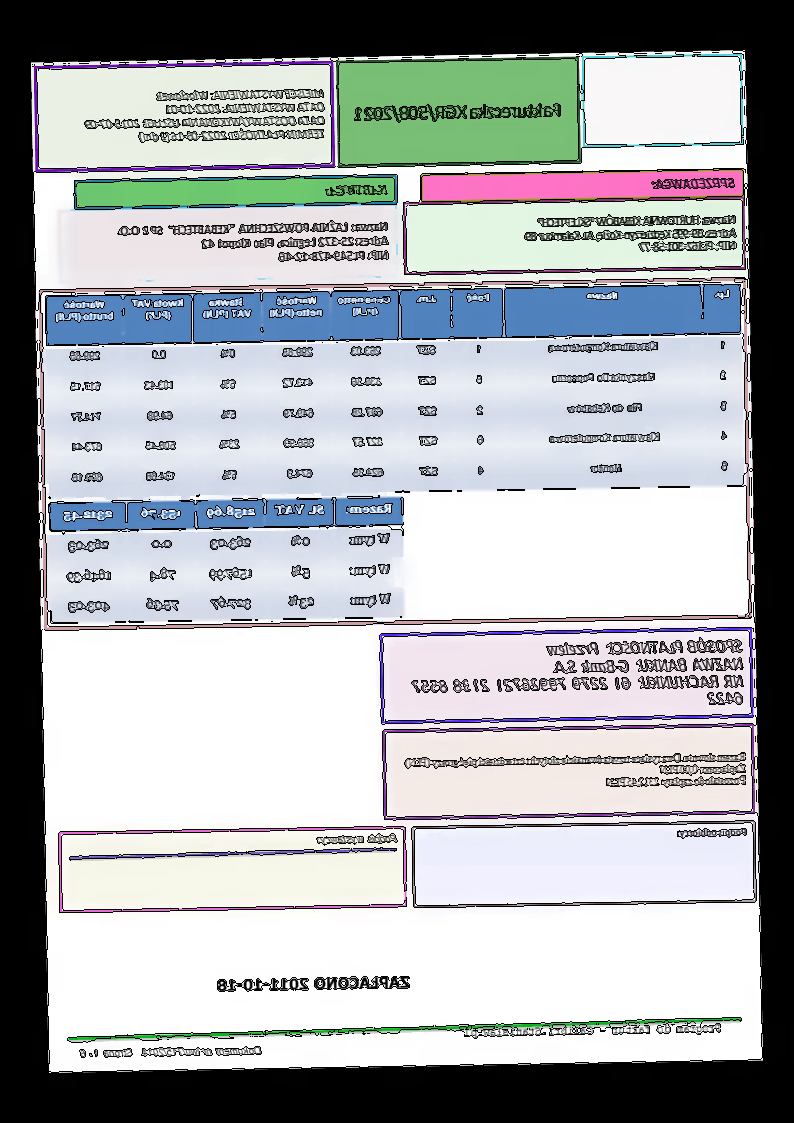Table: (46, 281, 747, 499), (50, 493, 408, 626)
TextBox: (406, 634, 747, 718), (399, 748, 751, 798), (81, 84, 330, 149), (112, 216, 392, 271), (520, 210, 742, 258), (353, 97, 568, 127), (461, 1019, 725, 1042), (212, 968, 417, 997), (76, 1040, 266, 1063), (315, 827, 401, 852), (650, 173, 741, 194), (674, 823, 753, 843), (326, 179, 392, 199)
